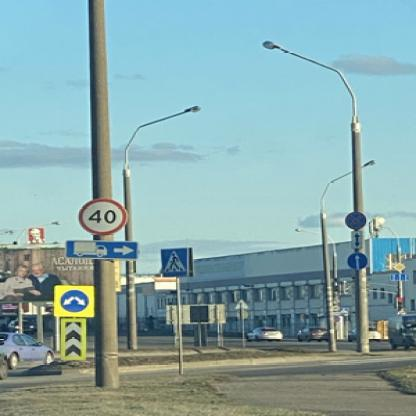crosswalk: (160, 249, 188, 274)
speedlimit: (78, 196, 126, 234)
